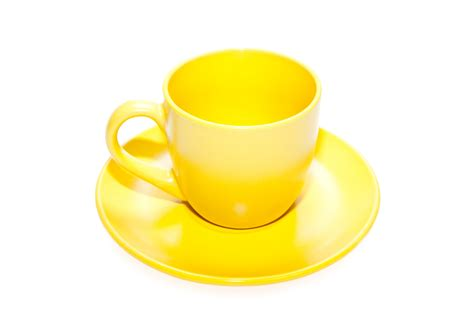???: (94, 47, 381, 287)
